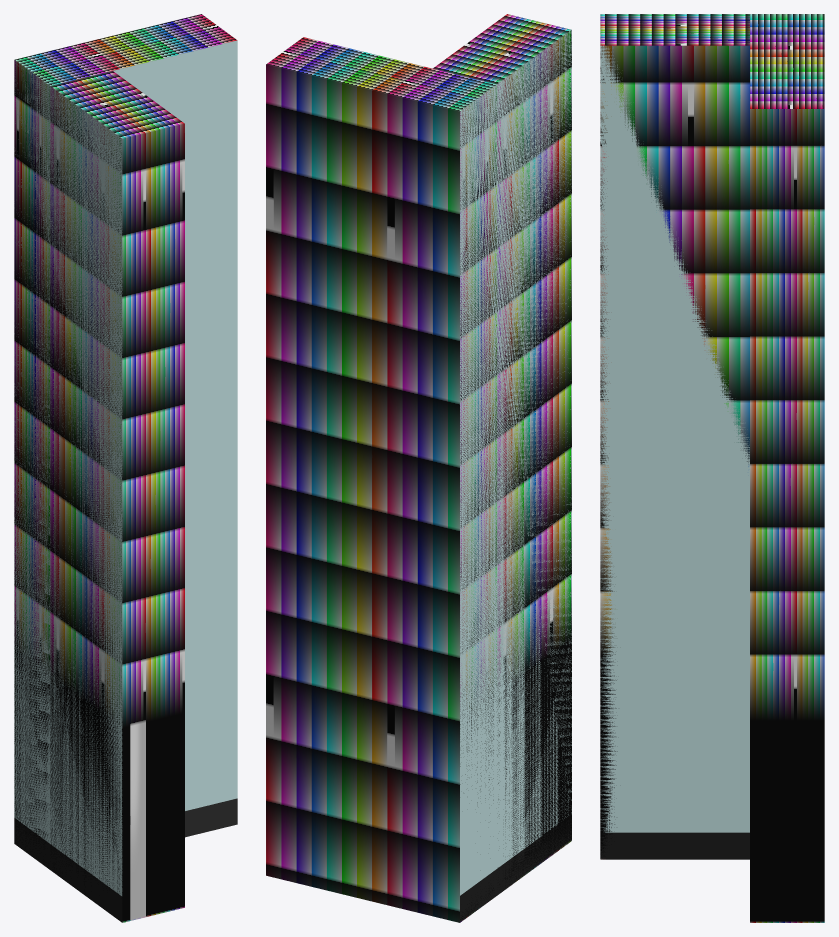
Rendered from interiorWall_corner_half.fbx.
3 renders of one model, left to right at view 1: azimuth 30°, elevation 25°; view 2: azimuth 150°, elevation 25°; view 3: azimuth 270°, elevation 25°, orthographic. The views are drawn at different scales.
Visible parts, largest first — view 1: interiorWall_corner_half, trigger_1, trigger_2; view 2: trigger_2, interiorWall_corner_half, trigger_1; view 3: interiorWall_corner_half, trigger_2, trigger_1.
Boxes of the visible parts, x1=… form: interiorWall_corner_half: x1=14, y1=40, x2=237, y2=922; trigger_1: x1=50, y1=71, x2=184, y2=922; trigger_2: x1=14, y1=14, x2=237, y2=851; trigger_2: x1=266, y1=37, x2=497, y2=922; interiorWall_corner_half: x1=460, y1=31, x2=571, y2=922; trigger_1: x1=433, y1=14, x2=571, y2=887; interiorWall_corner_half: x1=600, y1=45, x2=749, y2=859; trigger_2: x1=750, y1=14, x2=824, y2=922; trigger_1: x1=600, y1=14, x2=749, y2=859.
Size of what is drawn, in the model's own units: 75 by 300 by 75.
